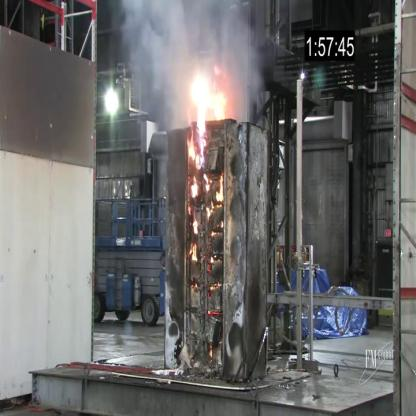fire: (186, 74, 231, 118), (188, 177, 226, 203), (186, 132, 206, 169), (191, 211, 198, 269), (206, 207, 216, 218)
